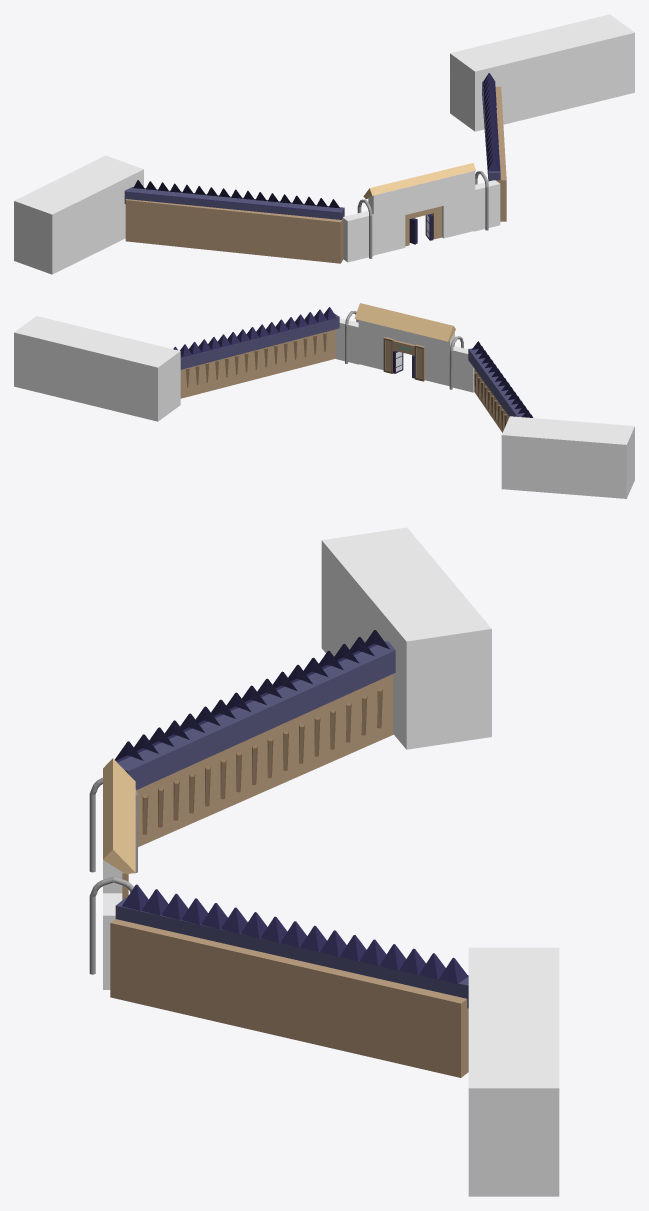
Rendered from vorota ishtar3.gltf.
3 views of the same model, one above another, from view 1: azimuth 30°, elevation 25°; view 2: azimuth 150°, elevation 25°; view 3: azimuth 270°, elevation 25° (orthographic). The views are drawn at different scales.
Parts seen in each view (by area): view 1: Cube.005; view 2: Cube.005; view 3: Cube.005.
Boxes of the visible parts, x1=… form: Cube.005: x1=14, y1=14, x2=634, y2=274; Cube.005: x1=14, y1=303, x2=634, y2=498; Cube.005: x1=89, y1=527, x2=559, y2=1196.
Bounding box in the file's own units: 447 × 44.34 × 158.
